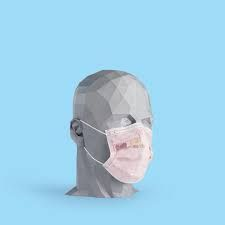with-mask: (67, 68, 158, 193)
